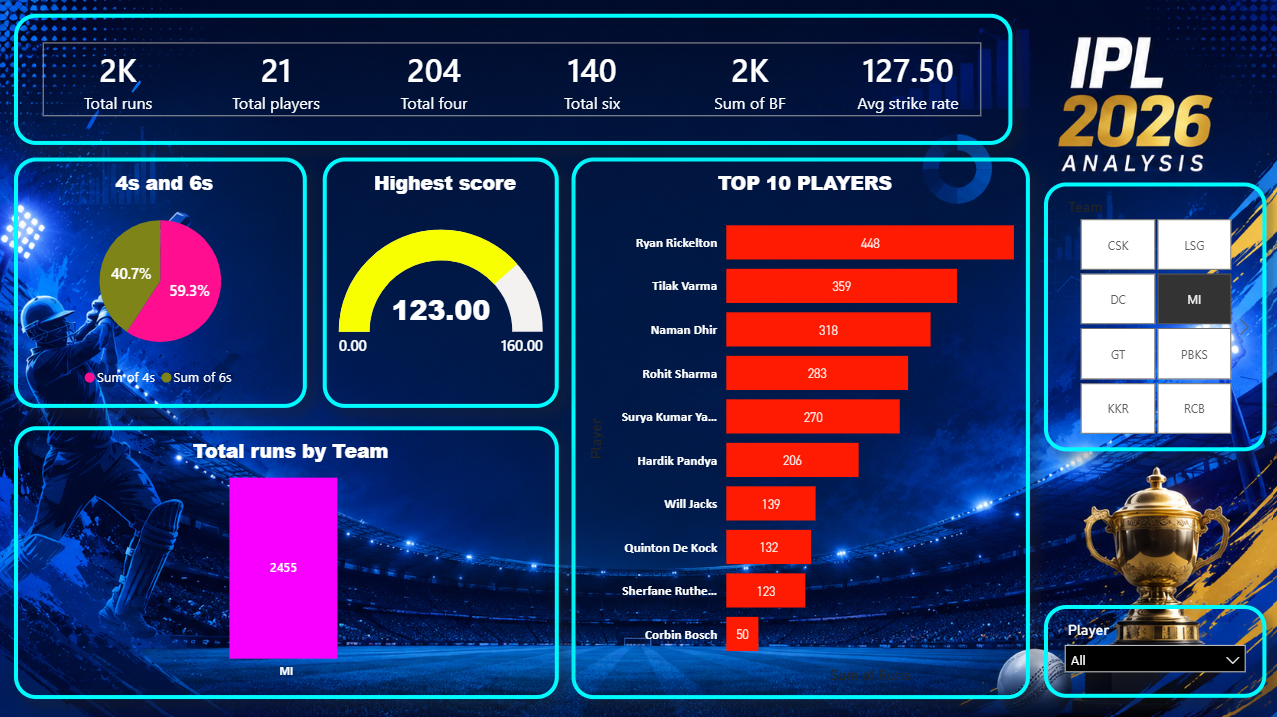

Layout of this report page (visuals, bound fields, positions):
{"tool":"powerbi","page":{"name":"Page 1","canvas":[1280,720],"ordinal":0},"visuals":[{"type":"barChart","title":"TOP 10 PLAYERS","fields":{"Category":["IPL2026.Player"],"Y":["Sum(IPL2026.Runs)"]},"box":[572.4,156.9,458.6,541.4],"z":0},{"type":"pieChart","title":"4s and 6s","fields":{"Y":["Sum(IPL2026.4s)","Sum(IPL2026.6s)"]},"box":[15,157.5,292.5,250],"z":1000},{"type":"columnChart","fields":{"Category":["IPL2026.Team"],"Y":["IPL2026.Total runs"]},"box":[15.5,425.9,544.8,272.4],"z":2000},{"type":"cardVisual","fields":{"Data":["IPL2026.Total runs","IPL2026.Total players","IPL2026.Total four","IPL2026.Total six","Sum(IPL2026.BF)","IPL2026.Avg strike rate"]},"box":[15.5,13.8,998.3,131],"z":3000},{"type":"slicer","fields":{"Values":["IPL2026.Team"]},"box":[1044.8,182.8,222.4,269],"z":4000},{"type":"slicer","title":"PLAYERS","fields":{"Values":["IPL2026.Player"]},"box":[1044.8,605.2,222.4,93.1],"z":5000},{"type":"gauge","fields":{"Y":["IPL2026.Highest score"]},"box":[323.8,157.5,236.2,250],"z":7000}]}

Visuals, with their boxes in screenshot pixels (x1, y1, x2, y2), scaled from the page's 1280x720 canvas onto the 1277x717 screenshot:
"TOP 10 PLAYERS" barChart: {"left": 571, "top": 156, "right": 1029, "bottom": 695}
"4s and 6s" pieChart: {"left": 15, "top": 157, "right": 307, "bottom": 406}
columnChart - IPL2026.Team x IPL2026.Total runs: {"left": 15, "top": 424, "right": 559, "bottom": 695}
cardVisual - IPL2026.Total runs x IPL2026.Total players: {"left": 15, "top": 14, "right": 1011, "bottom": 144}
slicer - IPL2026.Team: {"left": 1042, "top": 182, "right": 1264, "bottom": 450}
"PLAYERS" slicer: {"left": 1042, "top": 603, "right": 1264, "bottom": 695}
gauge - IPL2026.Highest score: {"left": 323, "top": 157, "right": 559, "bottom": 406}
